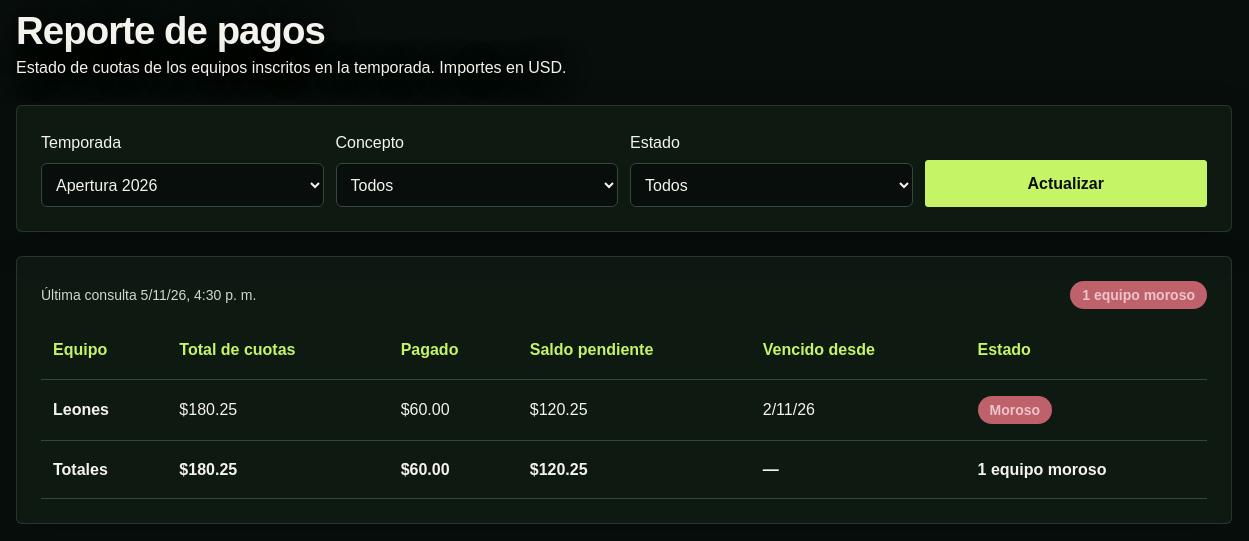
Scenario: vuelve a consultar sin cambiar los filtros y muestra la denegación de acceso
This screenshot has width=1249, height=541.
Check: the table is shown, box [41,321,1207,499]
Click the button "Actualizar" at {"x": 1066, "y": 183}, box [924,160,1207,207]
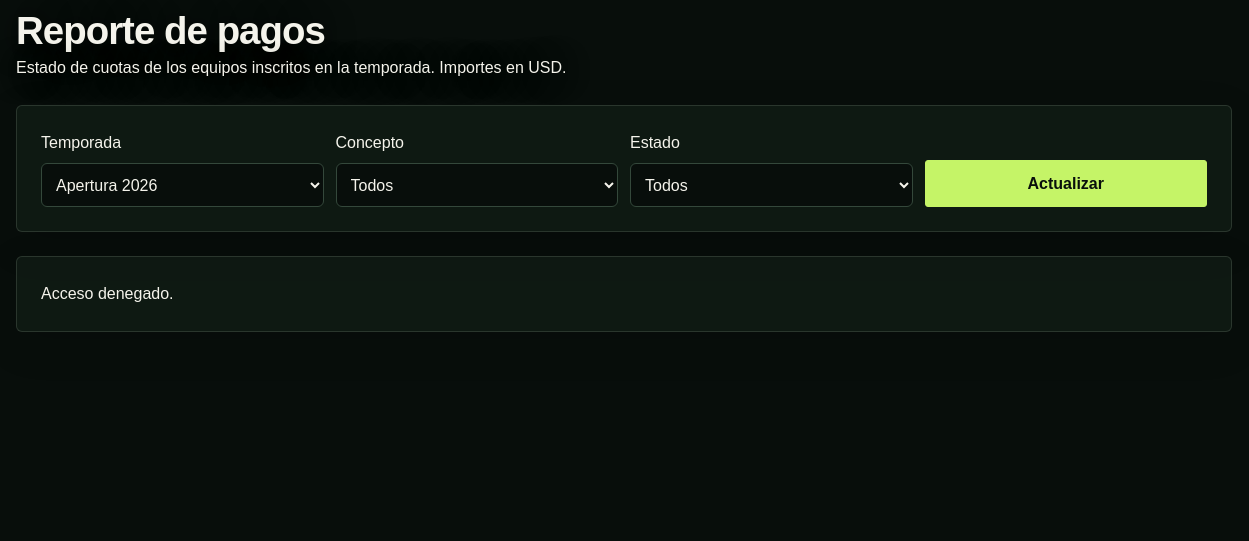
Check: the message reads "Acceso denegado.", box [41,285,174,302]
Check: the table is gone
